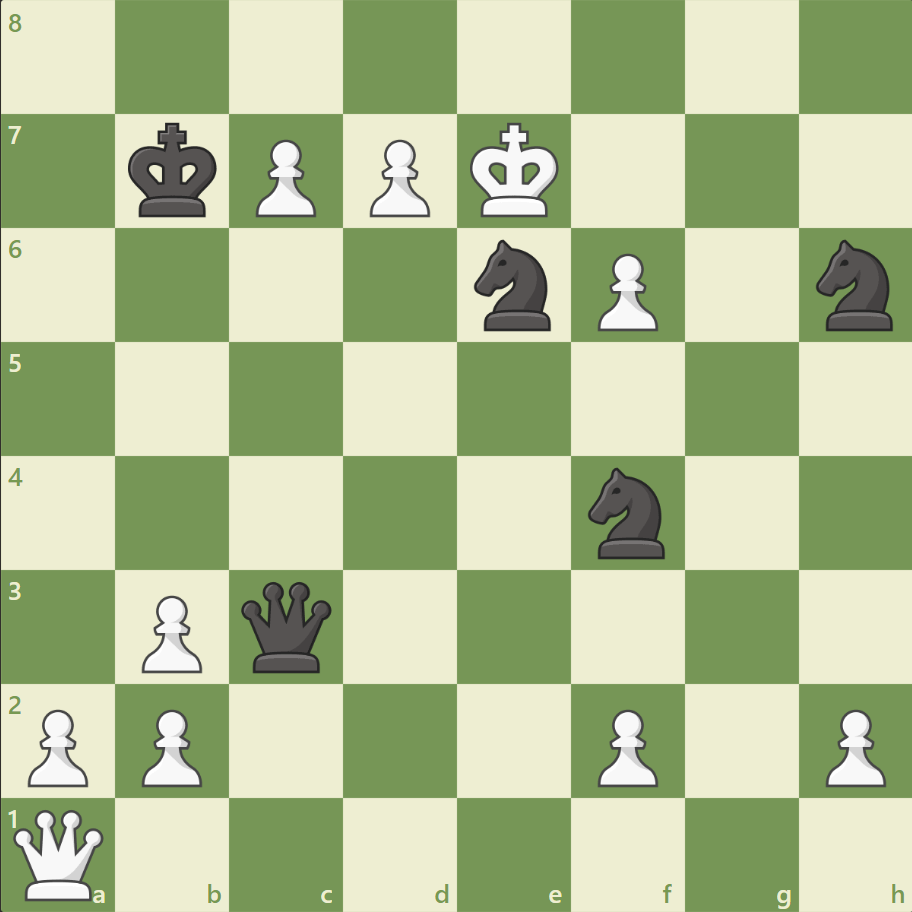K: (465, 117, 565, 225)
P: (247, 132, 322, 223), (133, 586, 208, 677), (20, 700, 95, 791), (133, 700, 208, 791), (361, 132, 435, 223), (588, 246, 662, 337), (588, 700, 662, 791), (815, 700, 889, 791)
Q: (10, 804, 109, 903)
k: (124, 117, 224, 225)
n: (465, 234, 562, 337), (806, 234, 903, 337), (579, 461, 676, 564)
q: (237, 576, 336, 676)
